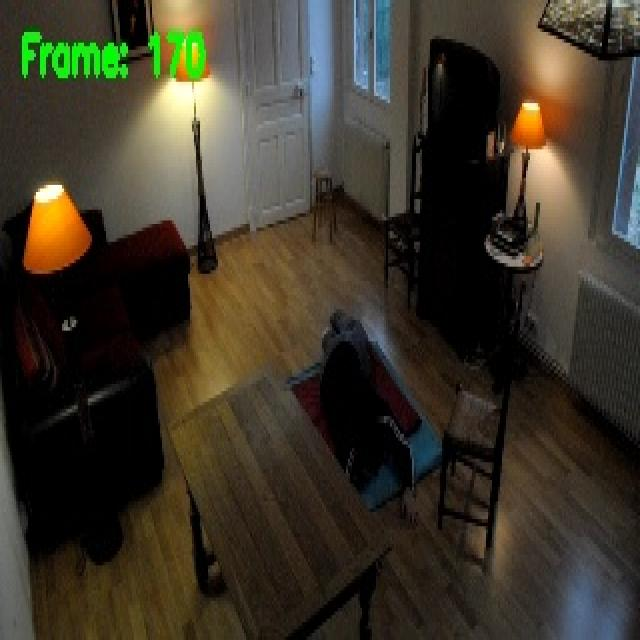Fall-Detected: (310, 306, 426, 530)
